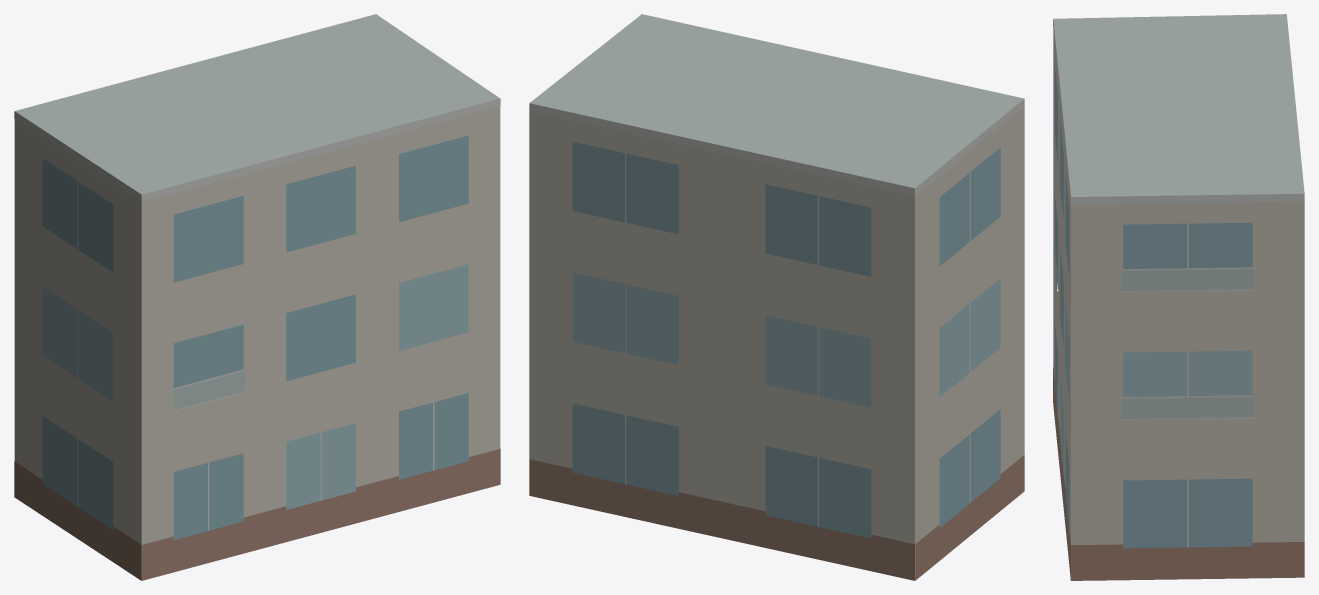
File: survey-upis-32841323.glb
3 views of the same model, side by side, from view 1: azimuth 30°, elevation 25°; view 2: azimuth 150°, elevation 25°; view 3: azimuth 270°, elevation 25° (orthographic). The views are drawn at different scales.
Visible parts, largest first — view 1: survey-upis-32841323.tmp; view 2: survey-upis-32841323.tmp; view 3: survey-upis-32841323.tmp.
Part boxes in pixels (x1,y1,x2,y2): survey-upis-32841323.tmp: (14,14,500,580); survey-upis-32841323.tmp: (529,14,1024,580); survey-upis-32841323.tmp: (1053,14,1304,580).
Size of the model in its own units: 12.38 by 12.1 by 7.19.
